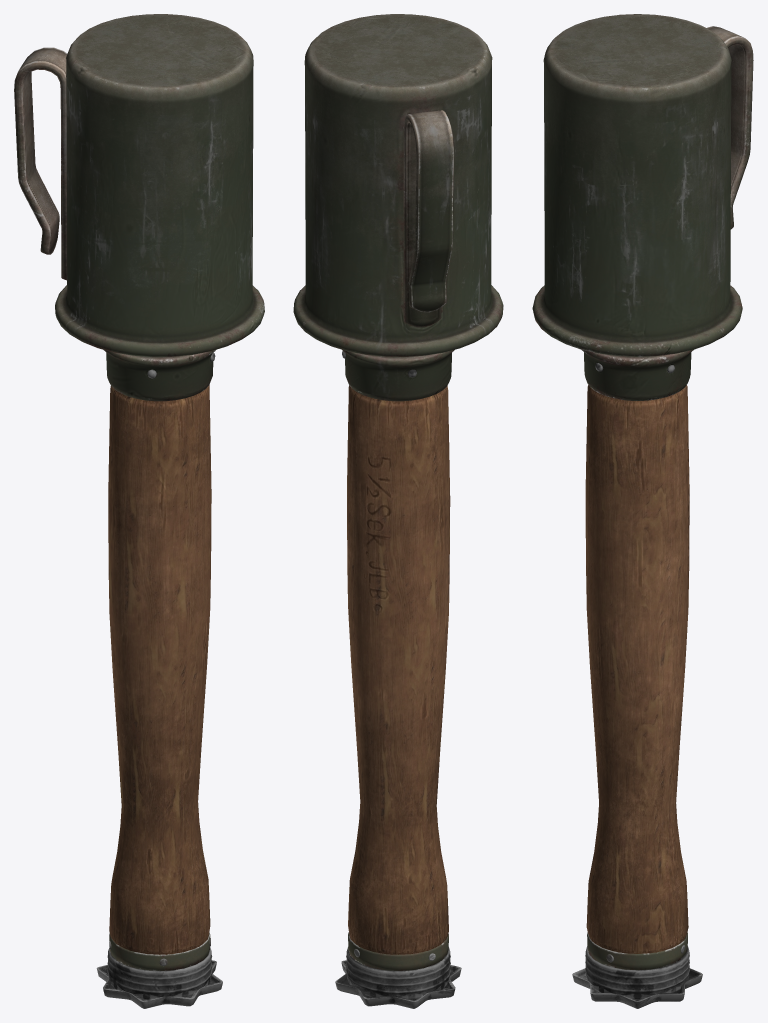
File: stick_grenade.glb
The picture shows the model from 3 angles, left to right: view 1: azimuth 30°, elevation 25°; view 2: azimuth 150°, elevation 25°; view 3: azimuth 270°, elevation 25°; orthographic projection.
Parts seen in each view (by area): view 1: stick_grenade; view 2: stick_grenade; view 3: stick_grenade.
Boxes of the visible parts, x1,y1,x2,y2 form: stick_grenade: (14,14,264,1008); stick_grenade: (293,14,503,1008); stick_grenade: (532,14,753,1008).
Size of the model in its own units: 0.0814 by 0.3794 by 0.0814.
Materials: 1 (1 with a texture image).
